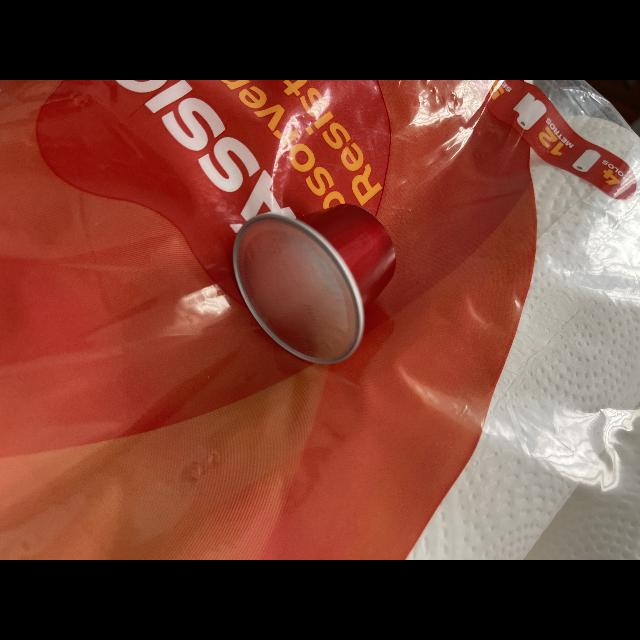intact_capsule: (224, 180, 421, 374)
